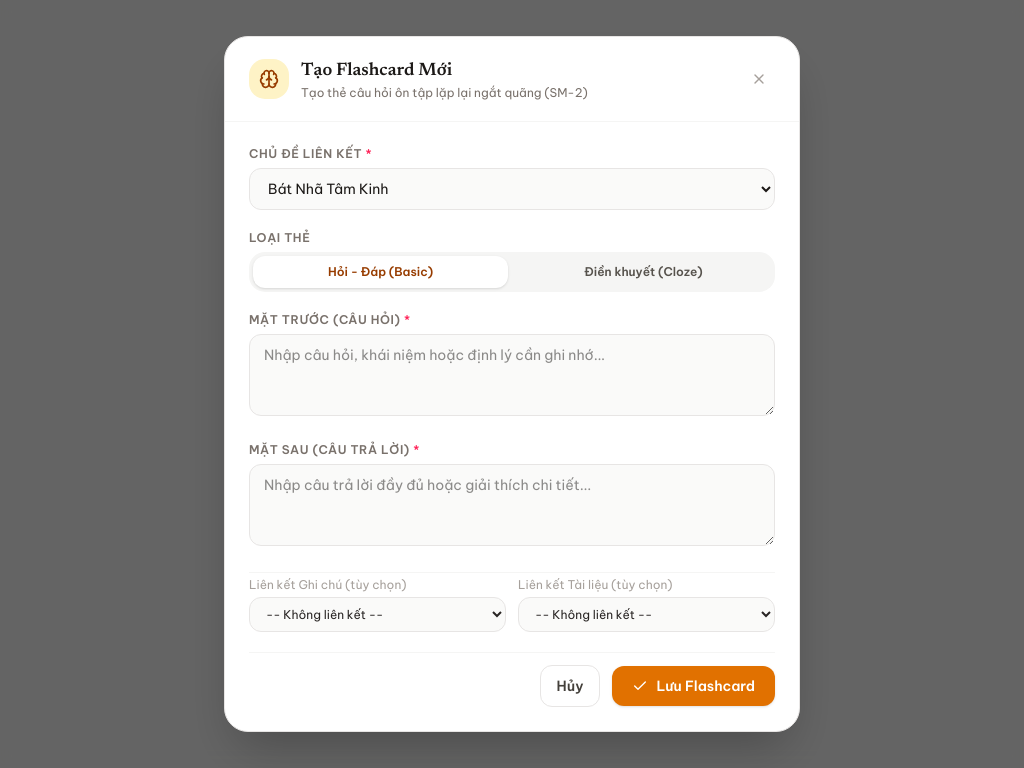
Test: FlashcardFormModal — Unit Tests › validates back bắt buộc (shows error when back is empty)
The width and height of the screenshot is (1024, 768).
Step 1. Type "Câu hỏi mẫu" into the text box with test id "input-front" → (512, 375), box [249,334,775,416]
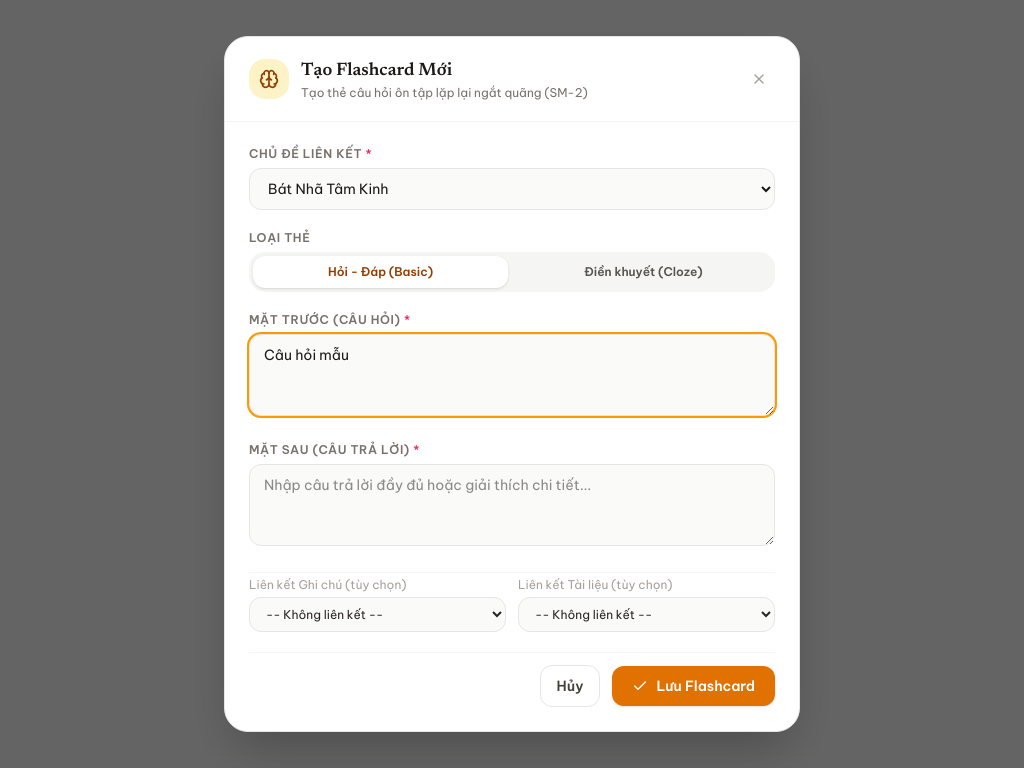
Step 2. Click the button with test id "btn-submit-flashcard" → (694, 686), box [612,666,775,706]
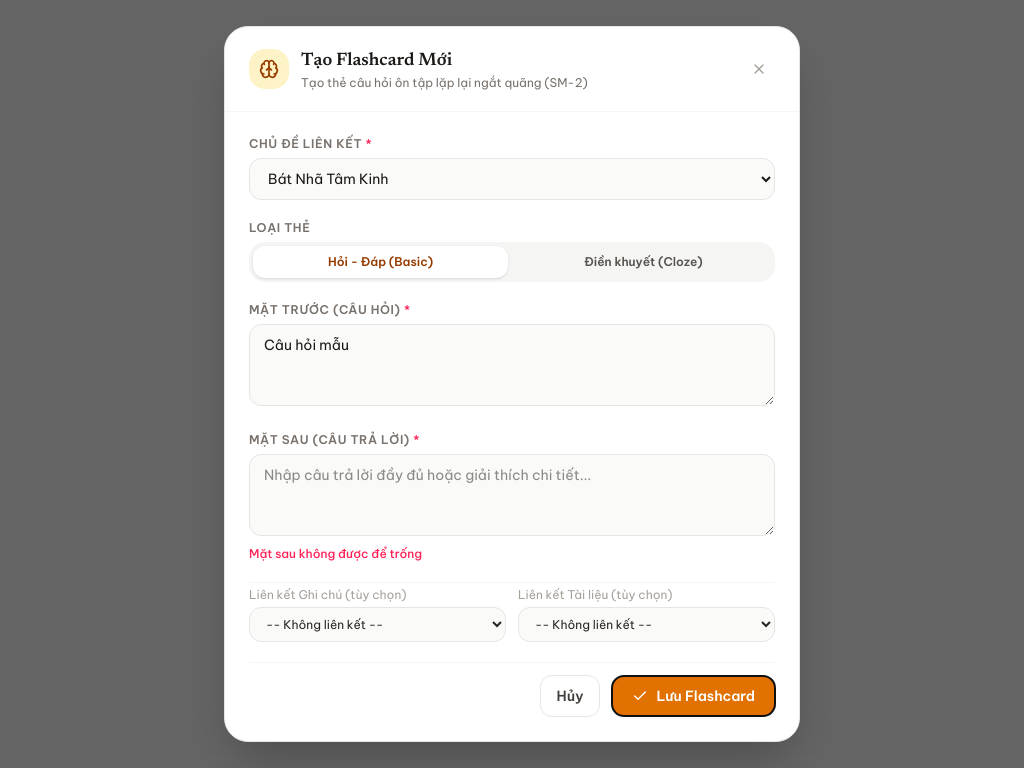
Check: the text "Mặt sau không được để trống" is shown, box [249,546,422,561]
